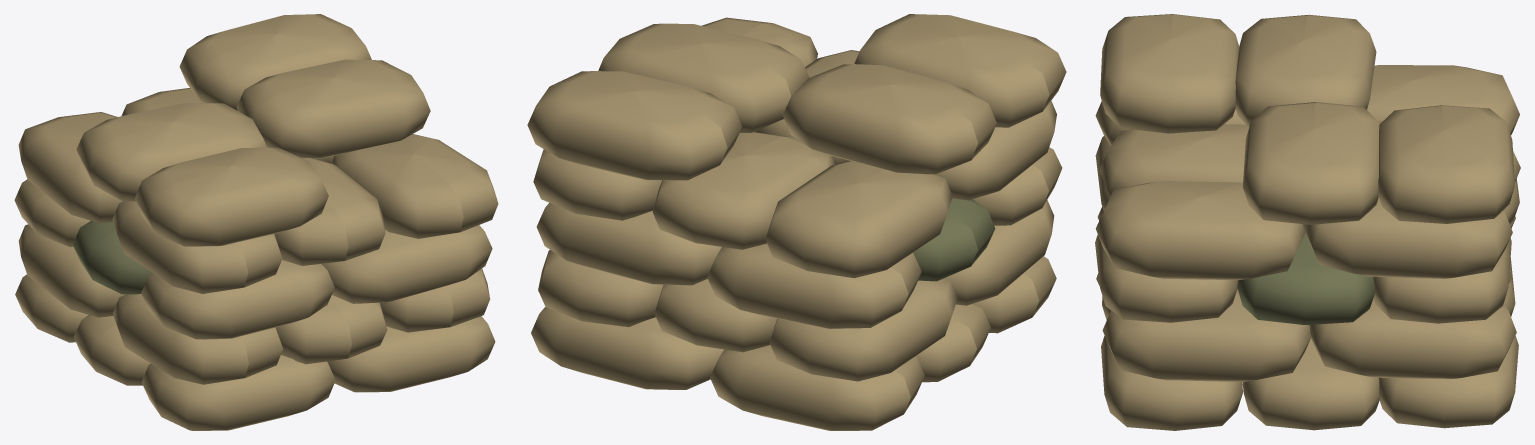
Rendered from bags.glb.
3 renders of one model, left to right at view 1: azimuth 30°, elevation 25°; view 2: azimuth 150°, elevation 25°; view 3: azimuth 270°, elevation 25°, orthographic. The views are drawn at different scales.
Parts seen in each view (by area): view 1: burlap, burlap-olive; view 2: burlap, burlap-olive; view 3: burlap, burlap-olive.
Boxes of the visible parts, x1,y1,x2,y2 form: burlap: (14, 14, 498, 430); burlap-olive: (73, 221, 152, 294); burlap: (527, 14, 1066, 430); burlap-olive: (913, 198, 995, 281); burlap: (1095, 14, 1520, 430); burlap-olive: (1237, 224, 1374, 324).
Bounding box in the file's own units: 2.02 × 1.44 × 2.03.
